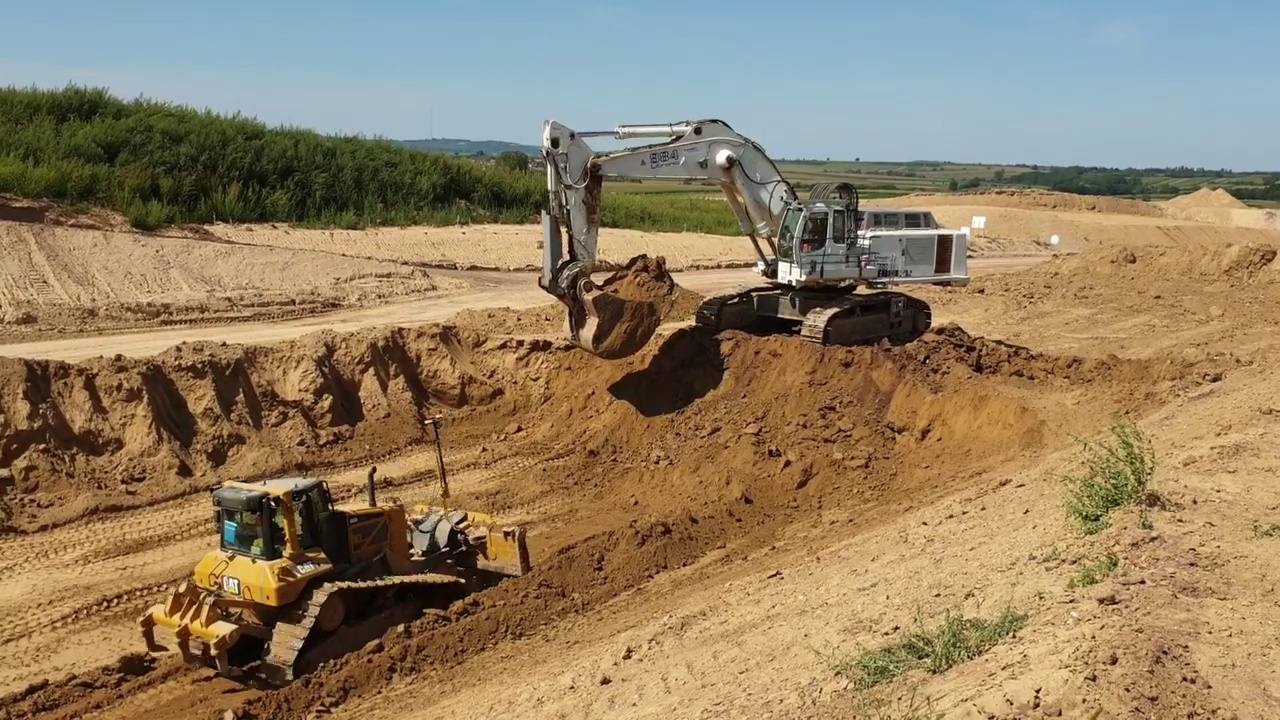bulldozer: (135, 412, 535, 688)
excavator: (536, 112, 976, 368)
